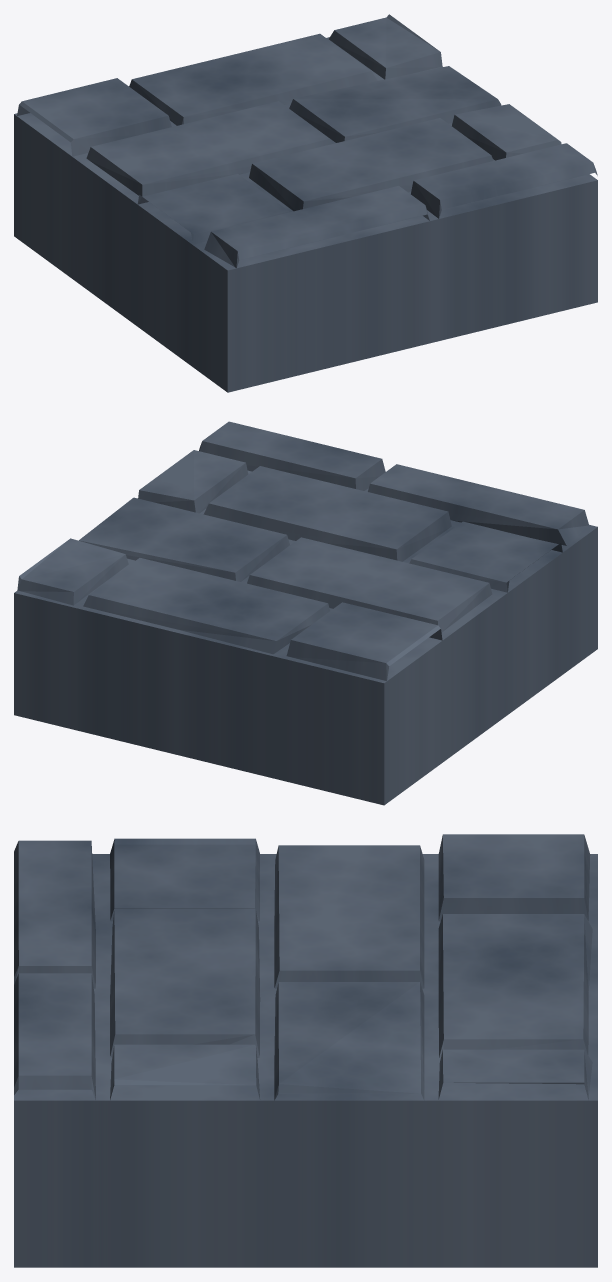
Rendered from BricksTile4.glb.
The picture shows the model from 3 angles, top to bottom: view 1: azimuth 30°, elevation 25°; view 2: azimuth 150°, elevation 25°; view 3: azimuth 270°, elevation 25°; orthographic projection. The views are drawn at different scales.
Visible parts, largest first — view 1: BricksTile4; view 2: BricksTile4; view 3: BricksTile4.
Boxes of the visible parts, x1,y1,x2,y2 form: BricksTile4: (14,14,597,392); BricksTile4: (14,421,597,805); BricksTile4: (14,834,597,1267).
Size of the model in its own units: 2 by 0.7187 by 2.
Materials: 1 (1 with a texture image).
